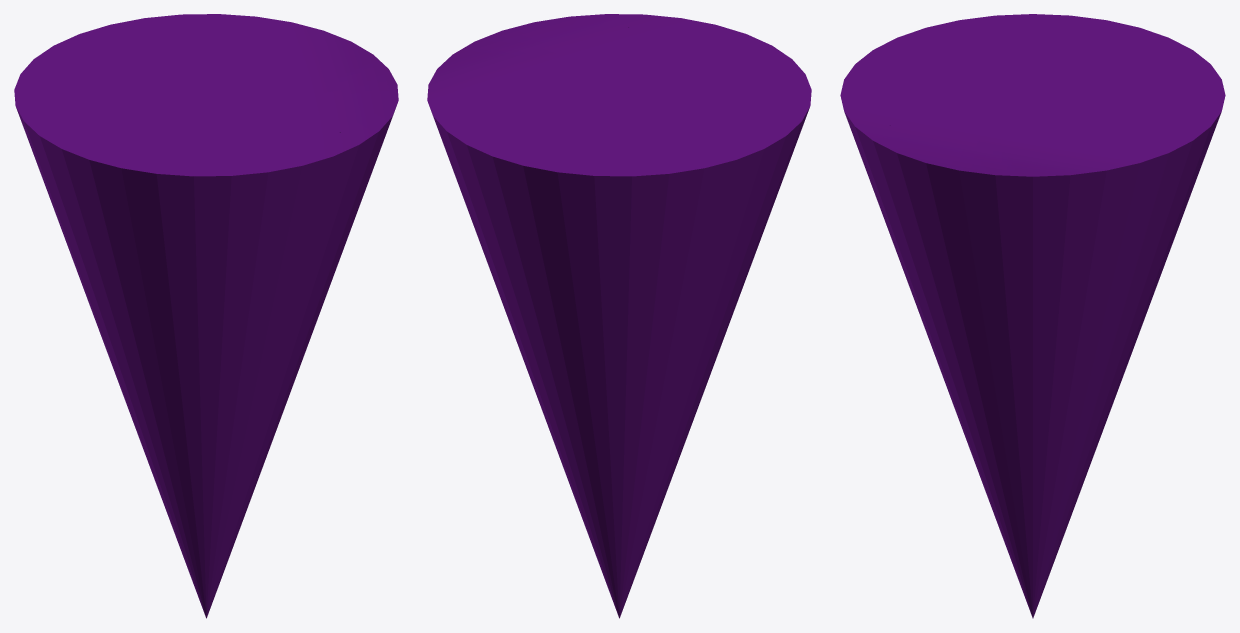
Rendered from BossBody.obj.
3 renders of one model, left to right at view 1: azimuth 30°, elevation 25°; view 2: azimuth 150°, elevation 25°; view 3: azimuth 270°, elevation 25°, orthographic.
Visible parts, largest first — view 1: 円錐; view 2: 円錐; view 3: 円錐.
Part boxes in pixels (bbox=[...]): 円錐: bbox=[14, 14, 398, 618]; 円錐: bbox=[427, 14, 811, 618]; 円錐: bbox=[840, 14, 1225, 618].
Bounding box in the file's own units: 2 × 3 × 2.
Materials: 1 (1 with a texture image).
